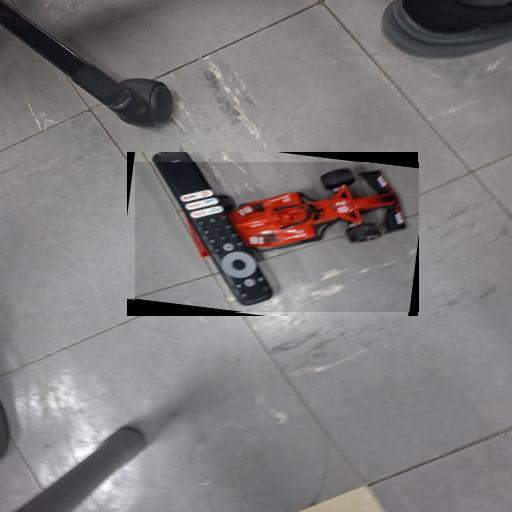carro: (135, 163, 418, 312)
